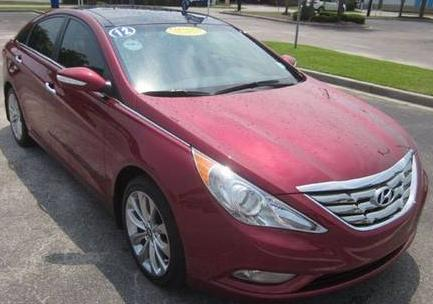front_view: (190, 140, 432, 303)
headlight: (187, 146, 330, 239)
side_glass: (14, 6, 122, 104)
